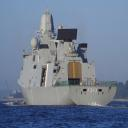Fragata: (16, 8, 119, 108)
